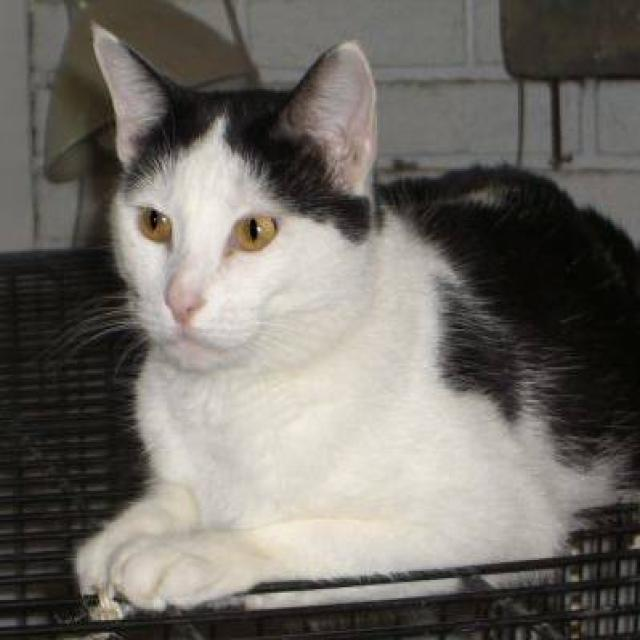cat: (54, 18, 638, 626)
